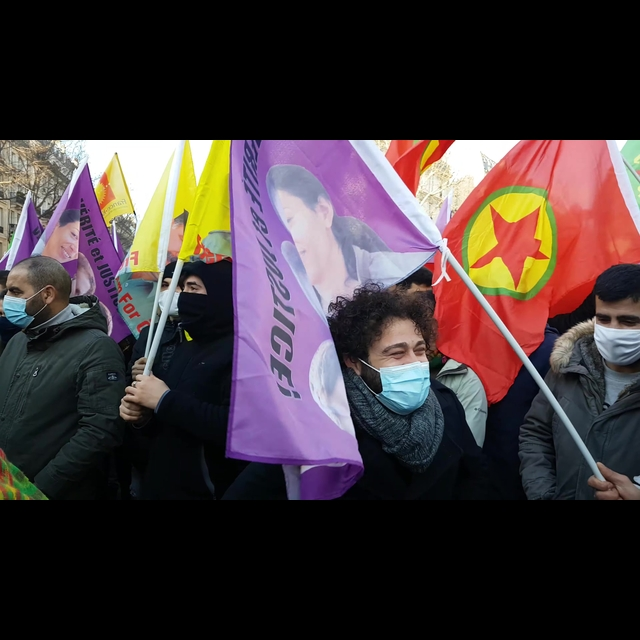PKK: (441, 150, 569, 317)
